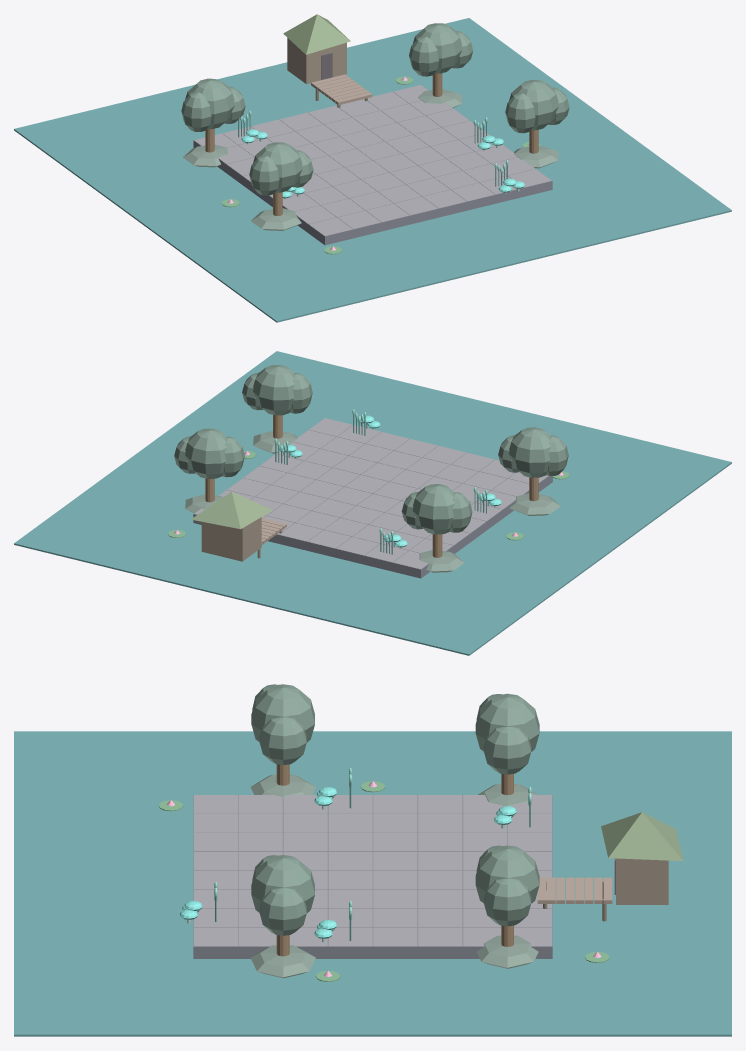
Rendered from 07_Swamp.glb.
The picture shows the model from 3 angles, top to bottom: view 1: azimuth 30°, elevation 25°; view 2: azimuth 150°, elevation 25°; view 3: azimuth 270°, elevation 25°; orthographic projection. The views are drawn at different scales.
Parts seen in each view (by area): view 1: swamp_water, Arena_Base, tree_islet (×4), swamp_hut_162, swamp_hut_163, swamp_tree_68, swamp_tree_83, swamp_tree_78, swamp_tree_73, swamp_tree_75, swamp_tree_80, swamp_tree_85 (+1 smaller); view 2: swamp_water, Arena_Base, tree_islet (×3), swamp_hut_162, swamp_tree_68, swamp_tree_73, swamp_tree_83, swamp_tree_78, swamp_hut_163, swamp_tree_85, swamp_tree_70, swamp_tree_75 (+1 smaller); view 3: swamp_water, Ground_Tile (×50), Arena_Base, tree_islet (×4), swamp_hut_163, swamp_hut_162, swamp_tree_68, swamp_tree_73, swamp_tree_78, swamp_tree_83, swamp_tree_79, swamp_tree_84 (+2 smaller).
Boxes of the visible parts, x1=… form: swamp_water: x1=14, y1=18, x2=731, y2=322; Arena_Base: x1=193, y1=88, x2=552, y2=245; tree_islet (×4): x1=183, y1=89, x2=558, y2=230; swamp_hut_162: x1=287, y1=38, x2=346, y2=84; swamp_hut_163: x1=283, y1=14, x2=350, y2=54; swamp_tree_68: x1=185, y1=78, x2=234, y2=129; swamp_tree_83: x1=509, y1=80, x2=558, y2=130; swamp_tree_78: x1=253, y1=142, x2=302, y2=192; swamp_tree_73: x1=413, y1=23, x2=462, y2=73; swamp_tree_75: x1=409, y1=36, x2=439, y2=76; swamp_tree_80: x1=249, y1=155, x2=279, y2=195; swamp_tree_85: x1=505, y1=93, x2=535, y2=133; swamp_water: x1=14, y1=351, x2=731, y2=655; Arena_Base: x1=193, y1=419, x2=552, y2=578; tree_islet (×3): x1=253, y1=431, x2=560, y2=572; swamp_hut_162: x1=201, y1=517, x2=261, y2=561; swamp_tree_68: x1=412, y1=484, x2=454, y2=534; swamp_tree_73: x1=185, y1=428, x2=226, y2=478; swamp_tree_83: x1=253, y1=365, x2=294, y2=415; swamp_tree_78: x1=509, y1=427, x2=550, y2=477; swamp_hut_163: x1=191, y1=492, x2=272, y2=529; swamp_tree_85: x1=289, y1=373, x2=312, y2=413; swamp_tree_70: x1=449, y1=492, x2=472, y2=532; swamp_tree_75: x1=222, y1=436, x2=244, y2=477; swamp_water: x1=14, y1=731, x2=731, y2=1036; Ground_Tile (×50): x1=194, y1=795, x2=551, y2=946; Arena_Base: x1=193, y1=795, x2=552, y2=958; tree_islet (×4): x1=250, y1=774, x2=538, y2=978; swamp_hut_163: x1=601, y1=812, x2=683, y2=860; swamp_hut_162: x1=616, y1=858, x2=668, y2=904; swamp_tree_68: x1=475, y1=693, x2=539, y2=751; swamp_tree_73: x1=475, y1=845, x2=539, y2=903; swamp_tree_78: x1=251, y1=684, x2=314, y2=742; swamp_tree_83: x1=251, y1=855, x2=314, y2=912; swamp_tree_79: x1=259, y1=717, x2=306, y2=764; swamp_tree_84: x1=259, y1=888, x2=306, y2=935.
Size of the model in its own units: 32 by 5.61 by 32.
